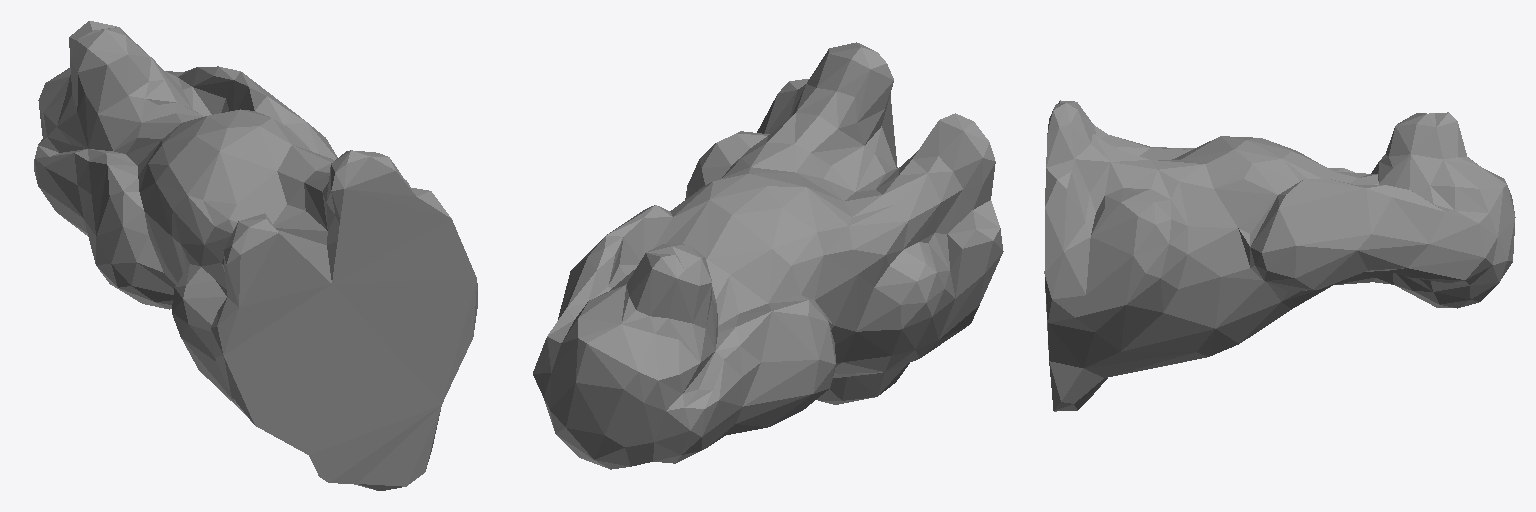
The robot description file, URDF, robot "cube.urdf":
<?xml version="0.0" ?> 
<robot name="cube.urdf"> 
<link name="legobrick"> 
<contact> 
<lateral_friction value="1.0"/>
<rolling_friction value="0.0"/>
<contact_cfm value="0.0"/>
<contact_erp value="1.0"/>
</contact> 
<inertial> 
<origin rpy="0 0 0" xyz="0.0 0.0 0.0"/> 
<mass value="0.1"/> 
<inertia ixx="1" ixy="0" ixz="0" iyy="1" iyz="0" izz="1"/> 
</inertial> 
<visual> 
<origin rpy="1.570796 0 0" xyz="0.00042365250000000153 0.0015209049999999988 -0.003668367500000001"/> 
<geometry> 
<mesh filename="Dog_800_tex.obj" scale="1 1 1"/> 
</geometry> 
<material name="yellow"> 
<color rgba="0.6 0.6 0.6 1"/> 
</material> 
</visual> 
<collision> 
<origin rpy="1.570796 0 0" xyz="0.00042365250000000153 0.0015209049999999988 -0.003668367500000001"/> 
<geometry> 
<mesh filename="Dog_800_tex_col.obj" scale="1 1 1"/> 
</geometry> 
</collision> 
</link> 
</robot>

--- What the picture shows (computed from the rendered views, not written in the file) ---
The picture shows the robot from 3 angles, left to right: view 1: azimuth 30°, elevation 25°; view 2: azimuth 150°, elevation 25°; view 3: azimuth 270°, elevation 25°; orthographic projection.
Robot: cube.urdf — 1 links, 0 joints (none); root link legobrick; default pose: every joint at zero.
Links seen in each view (by area): view 1: legobrick; view 2: legobrick; view 3: legobrick.
Boxes of the visible links, x1,y1,x2,y2 form: legobrick: [34, 21, 477, 490]; legobrick: [533, 42, 1003, 469]; legobrick: [1044, 100, 1515, 411].
Size in the robot's own frame: 0.0349 by 0.0657 by 0.045 metres.
Meshes: 1 distinct files referenced, 1 mesh visuals loaded (1 OBJ).